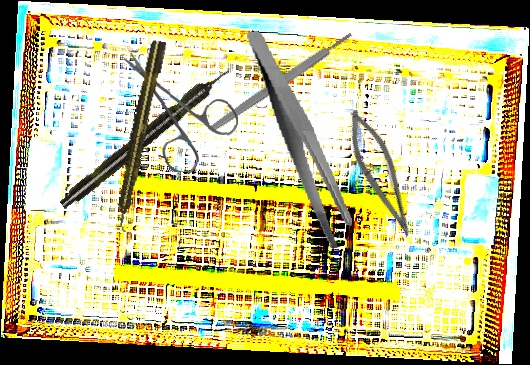Dressing Forceps: (246, 21, 356, 257)
Handpiece: (56, 63, 235, 213), (110, 39, 168, 233)
Iris Scissors: (118, 53, 241, 175)
Micro Scissor: (334, 104, 429, 243)
Scalpel Handle: (207, 30, 355, 134)
